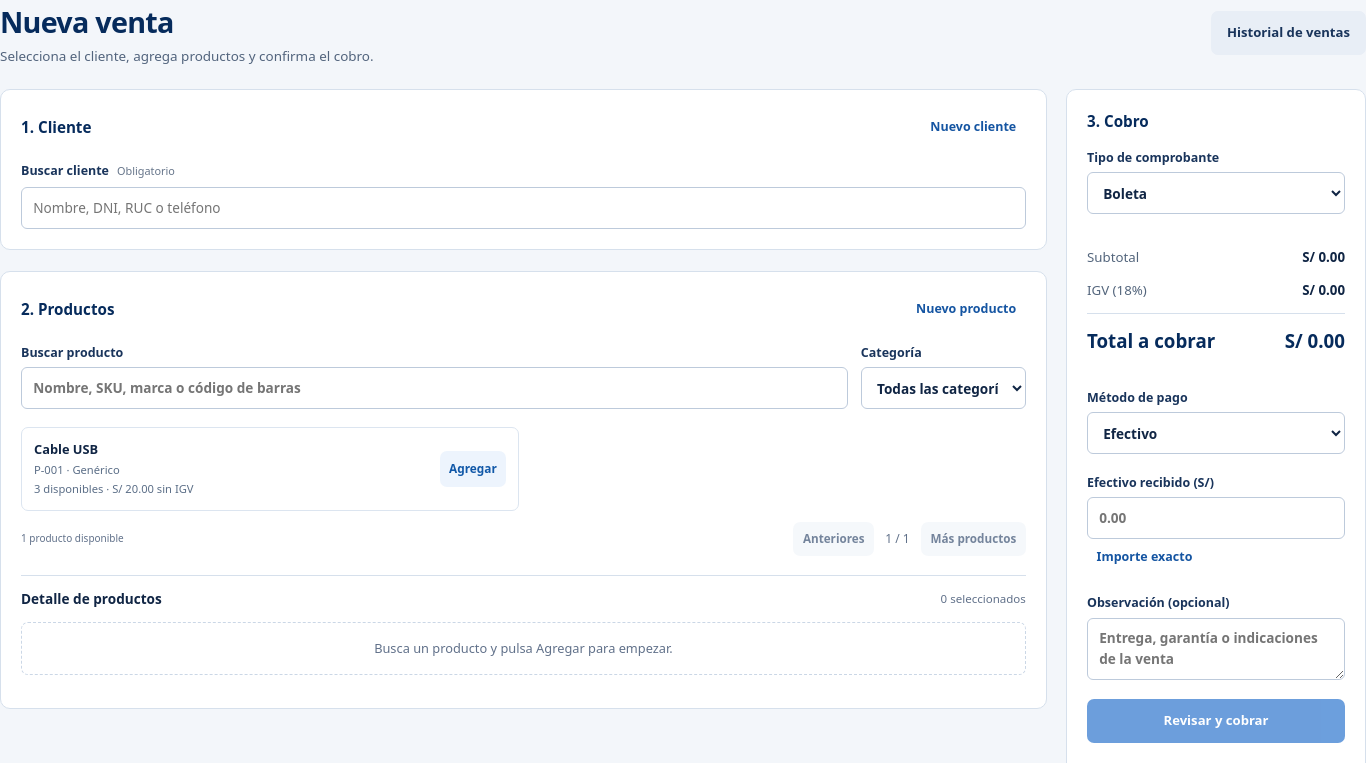
Test case: SalePage › envía una venta válida al controlador de comandos
Type "Cliente de Prueba" into the dropdown labelled "Buscar cliente" at point(523, 208), box [21, 187, 1026, 229]
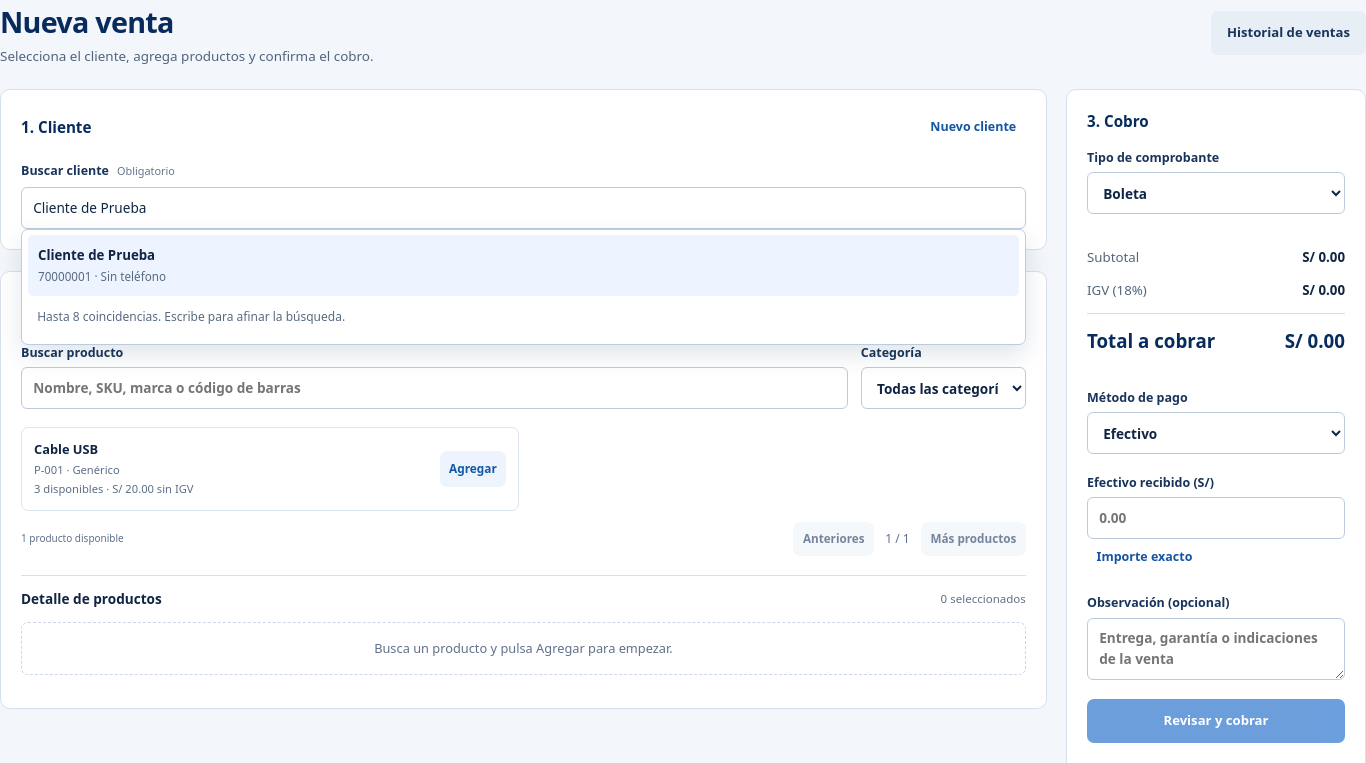
Click the option "Cliente de Prueba 70000001 · Sin teléfono" at point(97, 255), box [28, 236, 1019, 296]
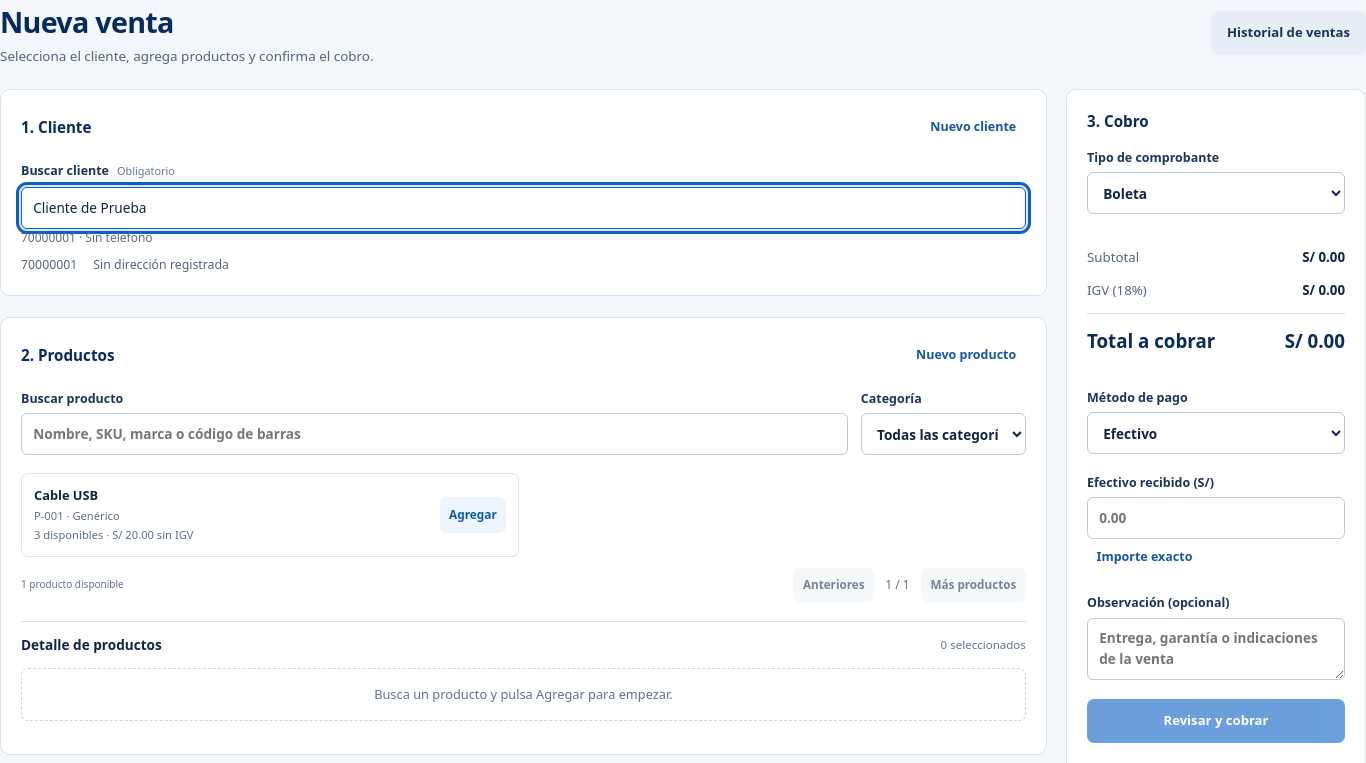
Click the button with aria-label "Agregar Cable USB" at point(473, 515), box [440, 497, 506, 533]
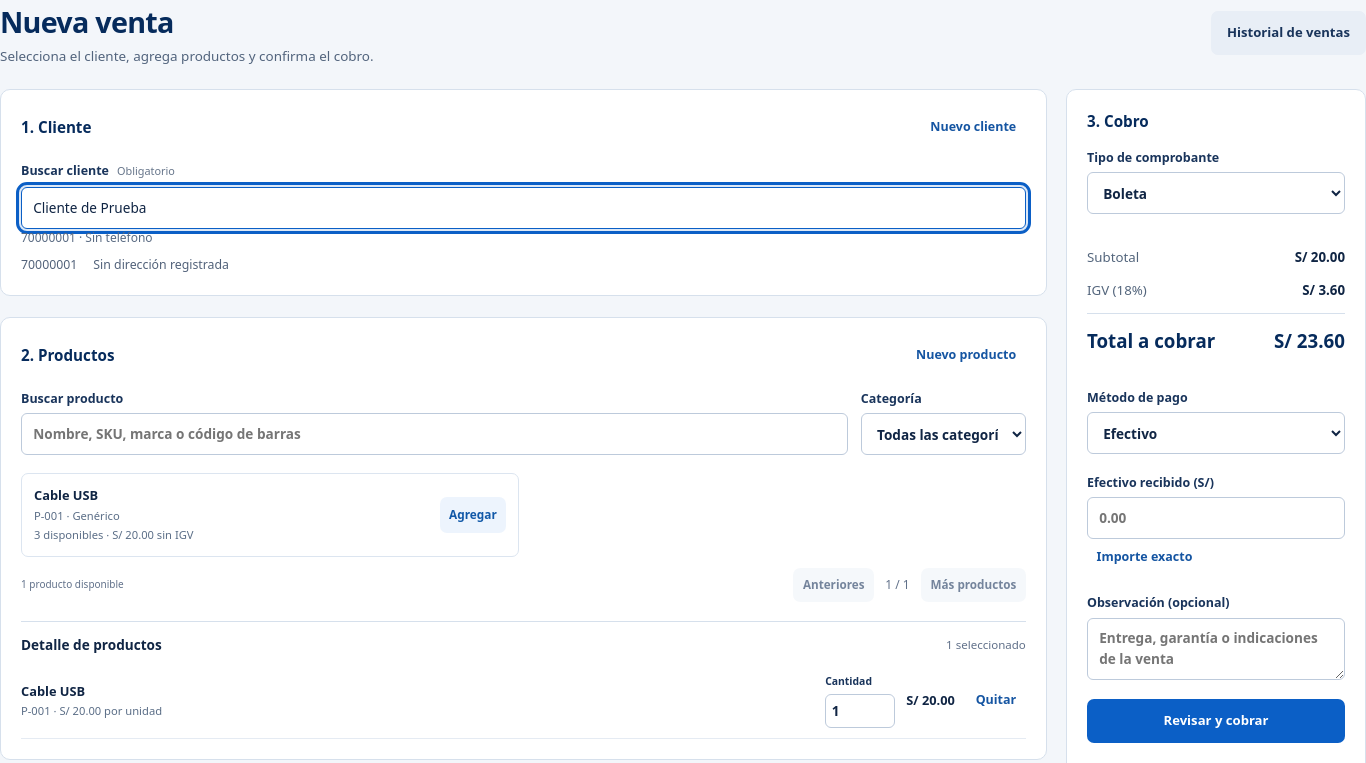
Replace the text in the number field named "Cantidad de Cable USB" with "2" at point(860, 711), box [825, 694, 895, 728]
Click the button "Importe exacto" at point(1144, 557), box [1087, 539, 1202, 575]
(page scrolled)
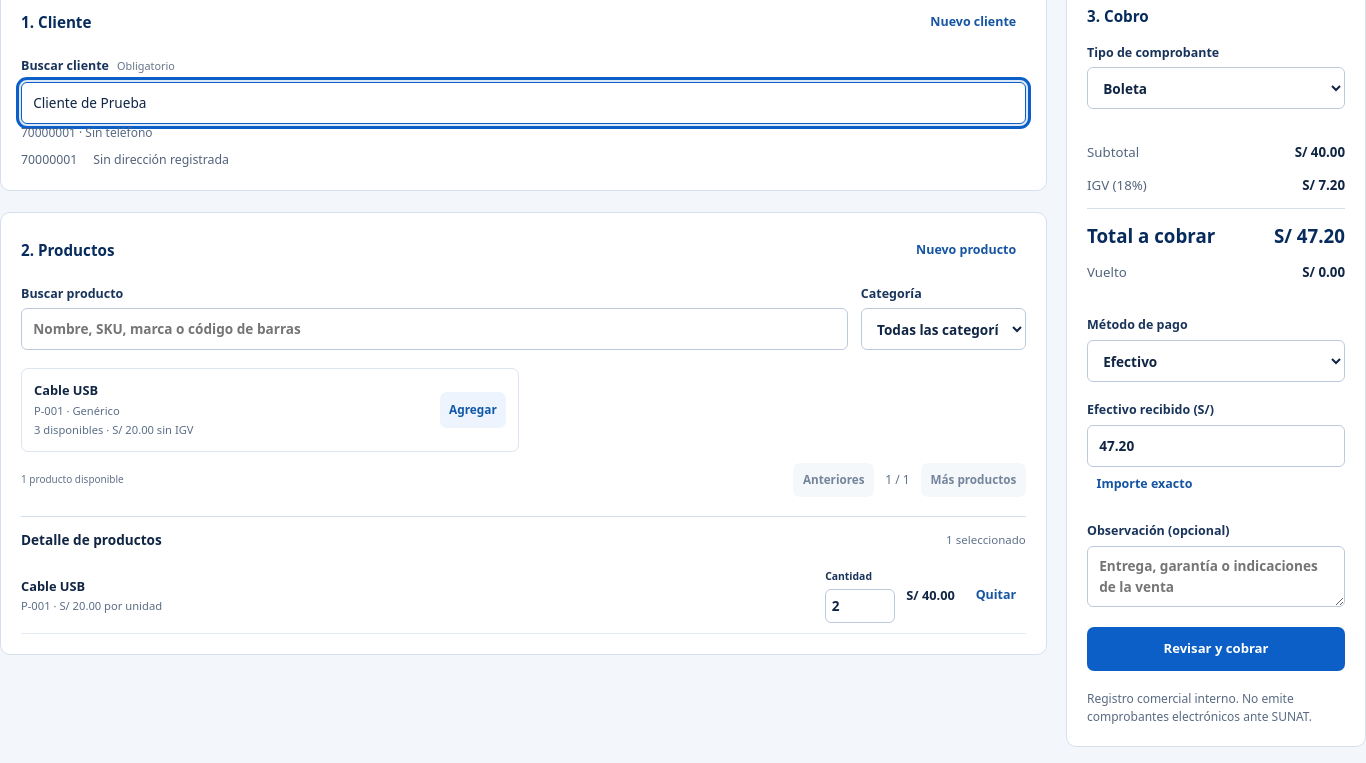
Click the button "Revisar y cobrar" at point(1216, 649), box [1087, 627, 1345, 671]
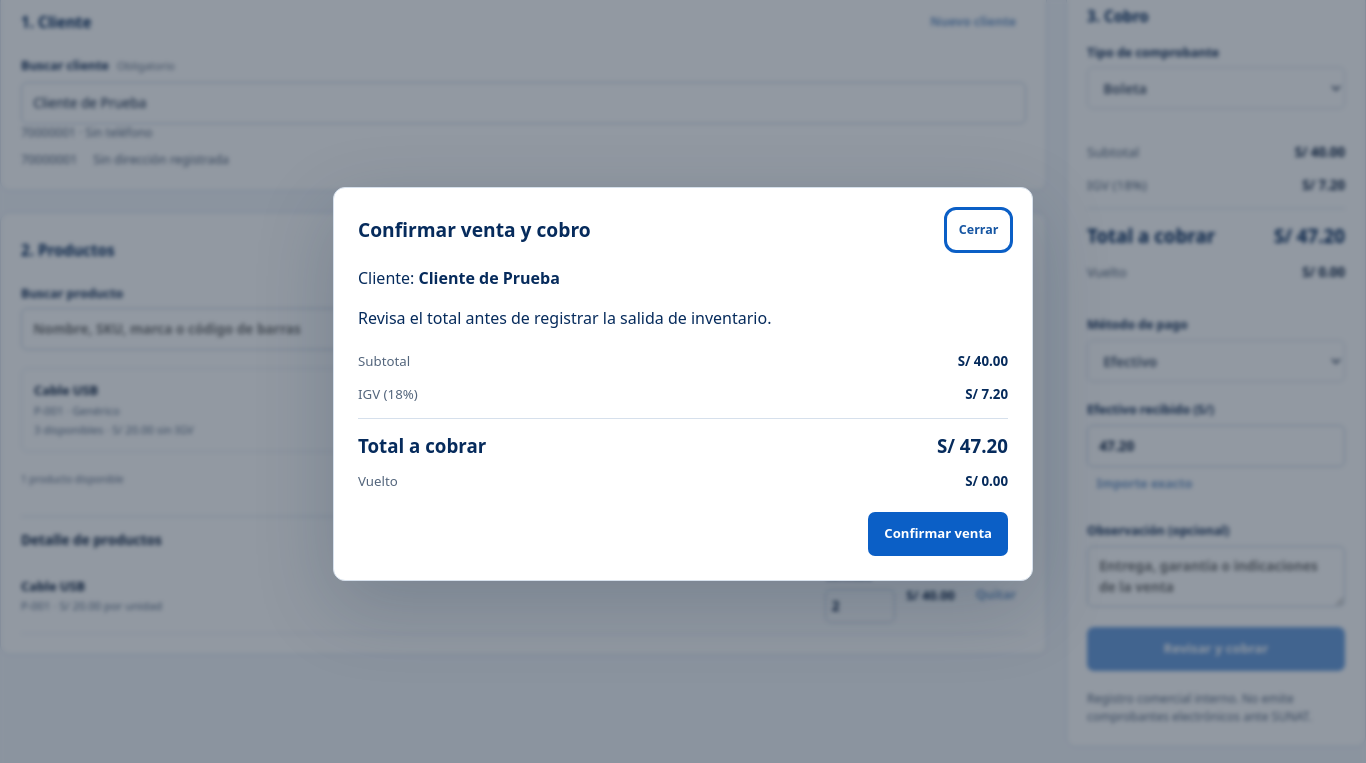
Click the button "Confirmar venta" at point(938, 534), box [868, 512, 1008, 556]
(page scrolled)
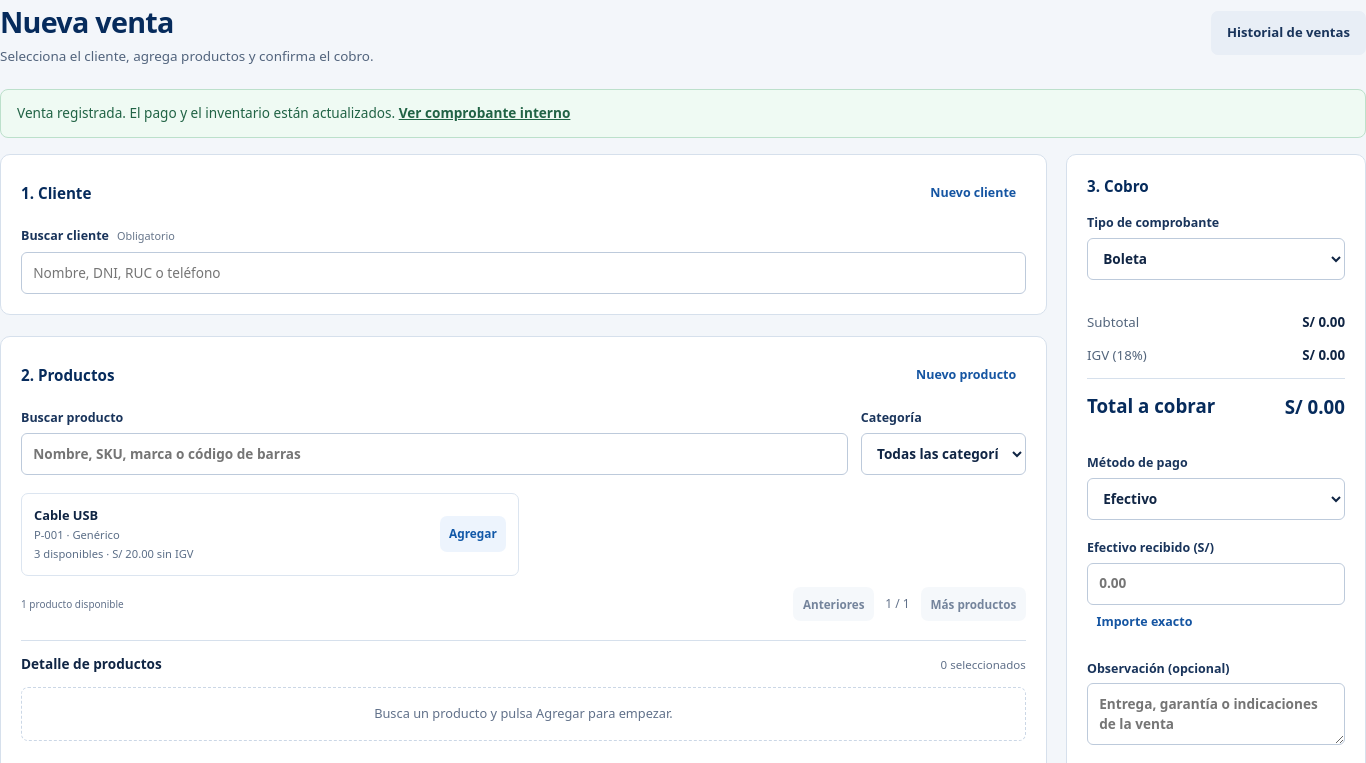
Check: the text "Venta registrada" is shown, box [17, 103, 395, 122]
